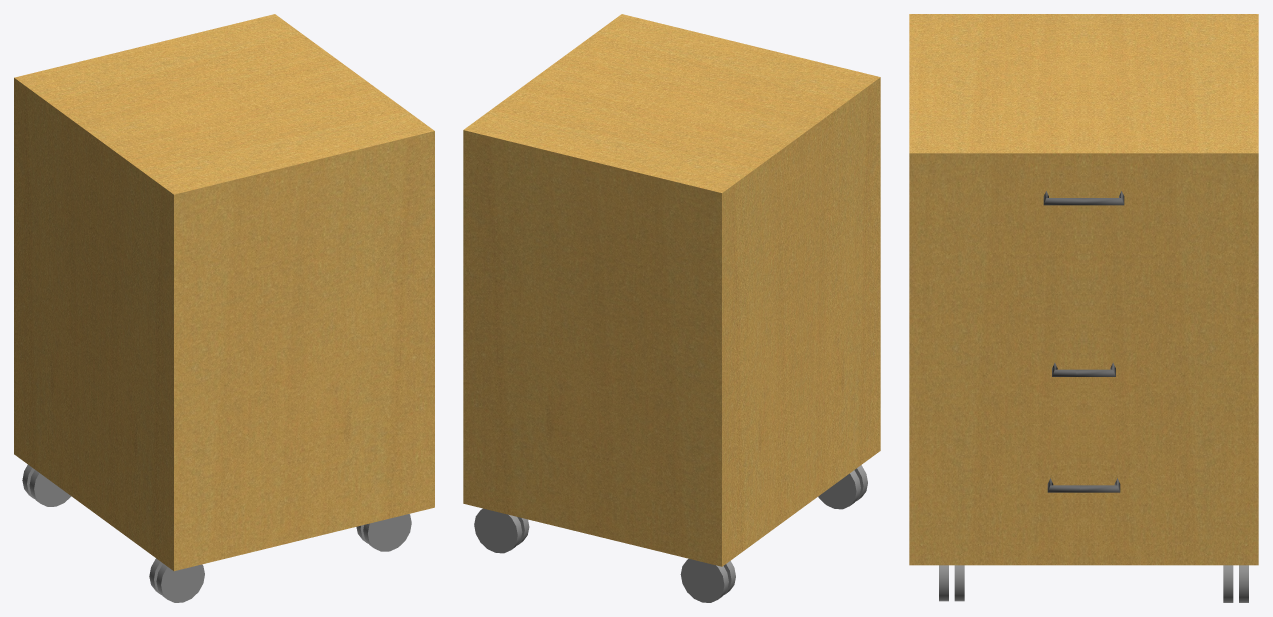
3 renders of one model, left to right at view 1: azimuth 30°, elevation 25°; view 2: azimuth 150°, elevation 25°; view 3: azimuth 270°, elevation 25°, orthographic. The views are drawn at different scales.
Visible parts, largest first — view 1: half (×2), wheel (×3); view 2: half (×2), wheel (×3); view 3: half (×2).
Boxes of the visible parts, x1,y1,x2,y2 form: half (×2): (14,14,434,571); wheel (×3): (29,470,411,602); half (×2): (463,14,880,566); wheel (×3): (474,470,860,602); half (×2): (909,14,1258,565).
Bounding box in the file's own units: 0.416 × 0.6055 × 0.415.
3 materials, 1 textured.
